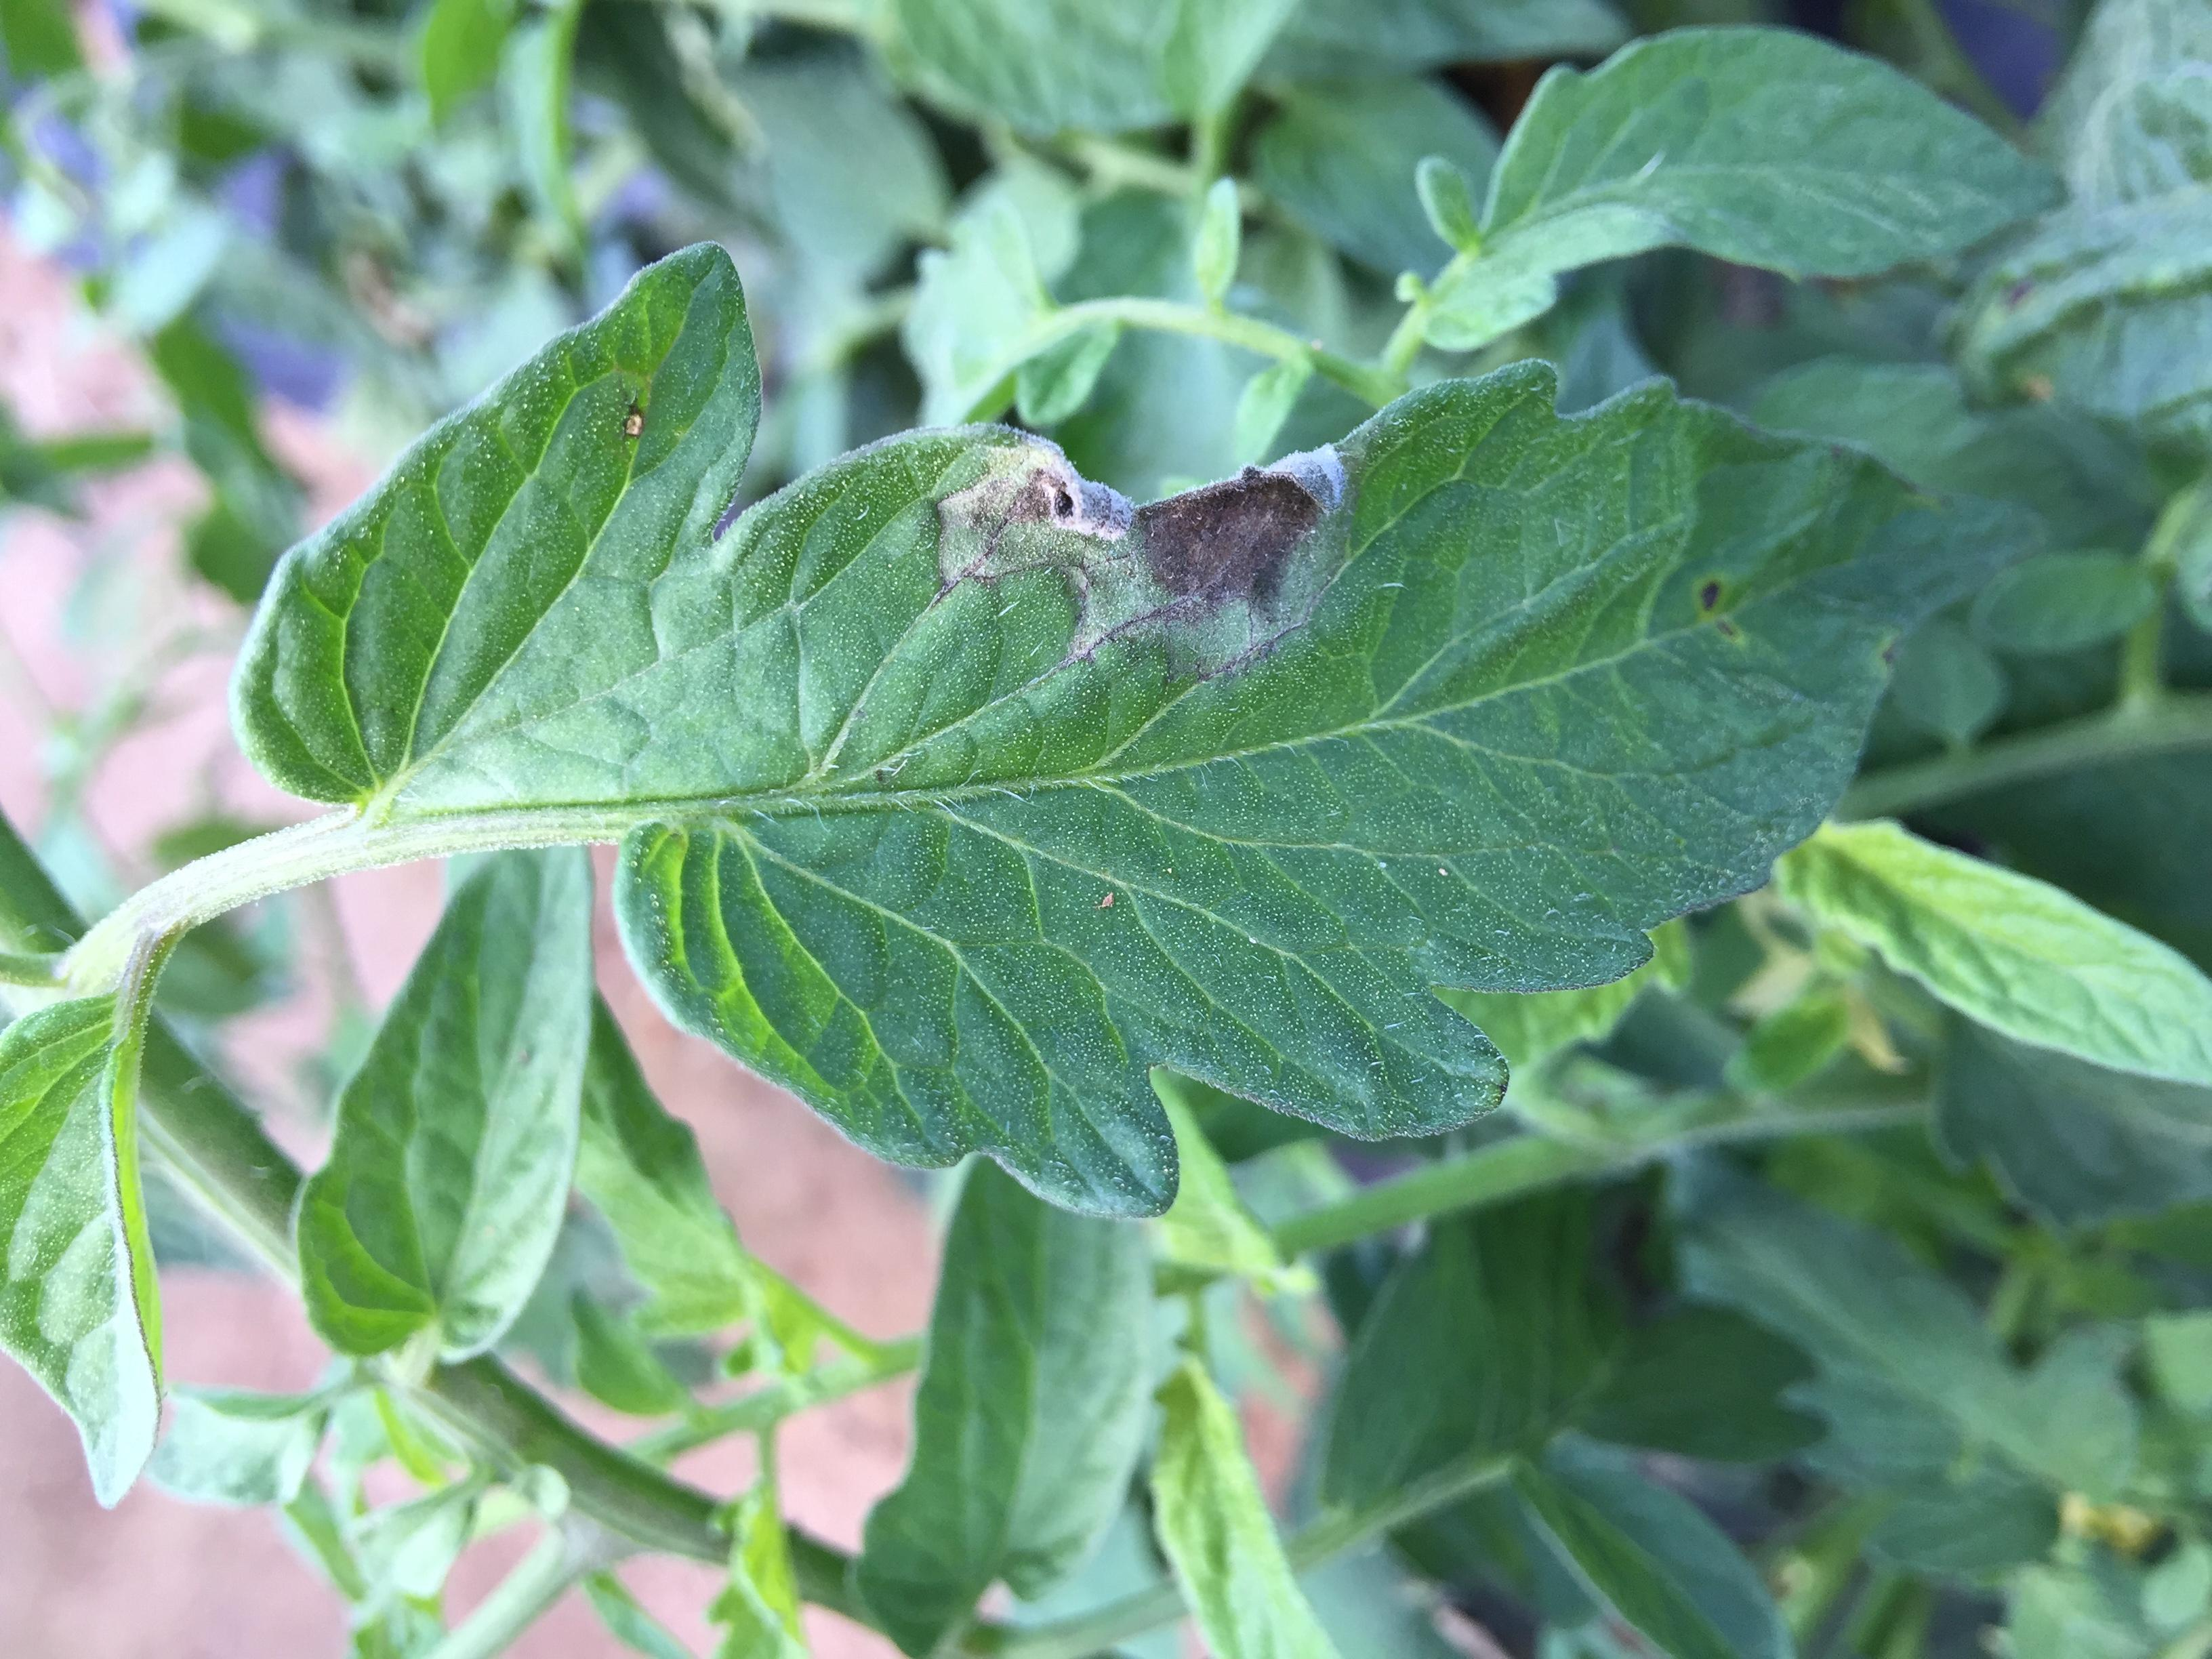Tomato leaf mosaic virus: (495, 143, 1886, 1535)
